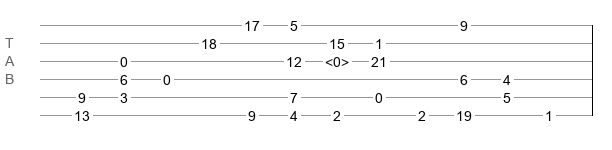0: (120, 54, 128, 64), (163, 72, 171, 82), (375, 90, 383, 100)
1: (375, 36, 383, 46), (545, 108, 553, 118)
12: (286, 54, 302, 64)
13: (74, 108, 90, 118)
15: (329, 36, 345, 46)
17: (244, 18, 260, 28)
18: (201, 36, 217, 46)
19: (456, 108, 472, 118)
2: (333, 108, 341, 118), (418, 108, 426, 118)
21: (371, 54, 387, 64)
3: (120, 90, 128, 100)
4: (290, 108, 298, 118), (503, 72, 511, 82)
5: (290, 18, 298, 28), (503, 90, 511, 100)
6: (120, 72, 128, 82), (460, 72, 468, 82)
7: (290, 90, 298, 100)
9: (78, 90, 86, 100), (248, 108, 256, 118), (460, 18, 468, 28)
harmonic: (325, 54, 349, 64)
